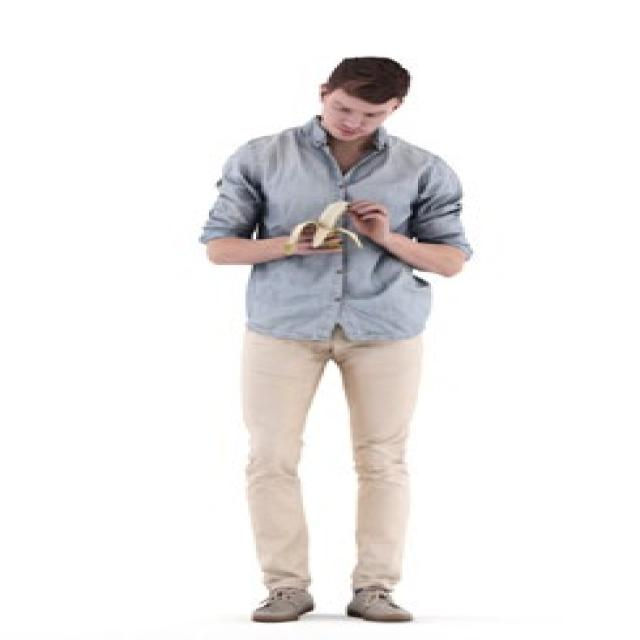standing: (198, 54, 478, 624)
